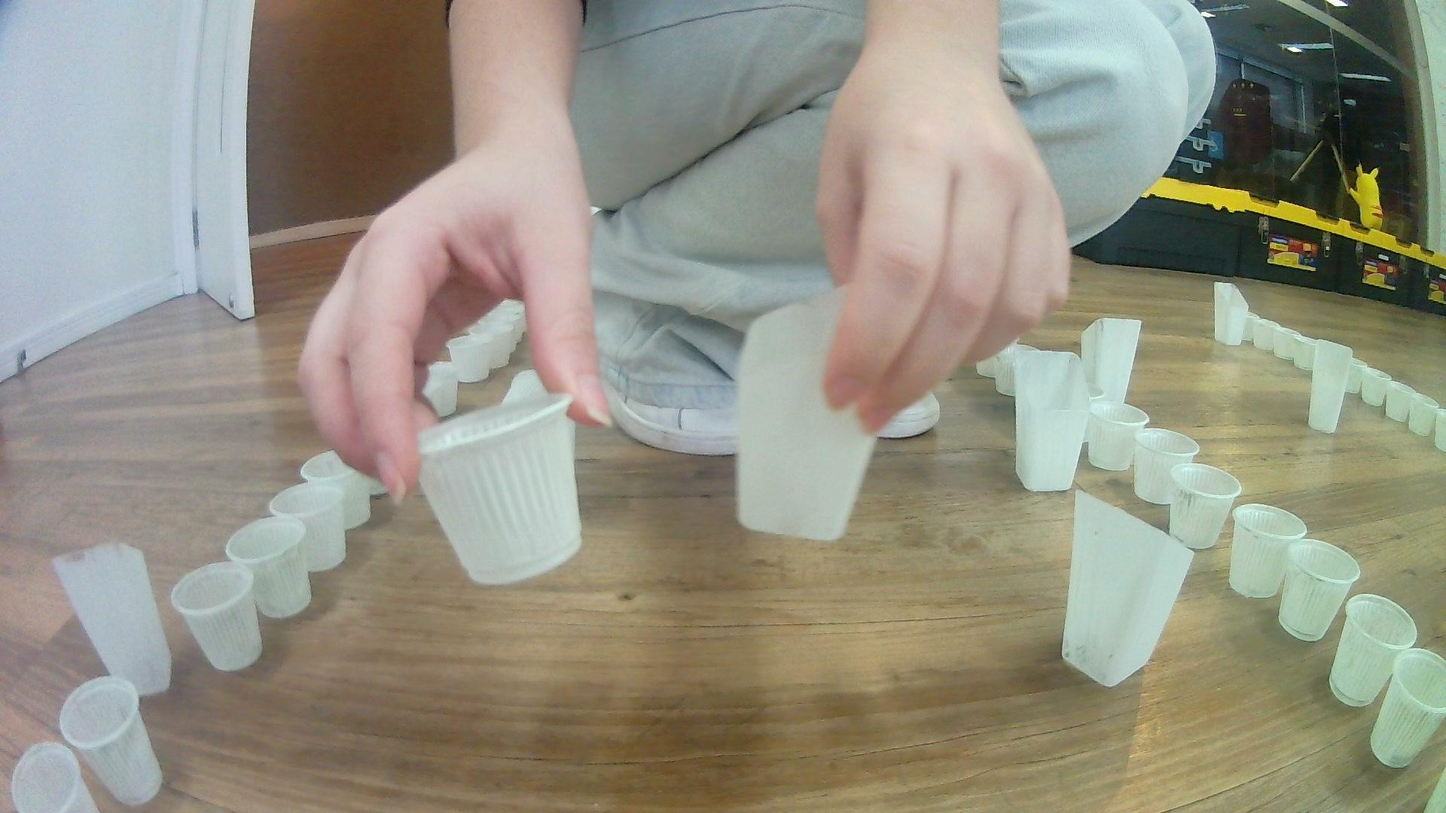erva_daninha: (734, 288, 905, 543), (1058, 488, 1195, 689), (48, 541, 175, 699), (1012, 352, 1088, 493), (1081, 317, 1142, 404), (1308, 339, 1353, 434), (1213, 281, 1249, 346)
planta: (414, 392, 583, 587), (58, 676, 163, 807), (1328, 592, 1418, 708), (170, 562, 264, 672), (1369, 648, 1446, 769), (1276, 537, 1362, 643), (224, 516, 311, 618), (1228, 503, 1307, 599), (268, 483, 346, 573), (1167, 462, 1243, 550), (10, 741, 101, 813), (299, 449, 373, 531), (1132, 428, 1201, 506), (1088, 402, 1152, 472), (994, 346, 1044, 396), (445, 330, 490, 383), (421, 360, 459, 420), (467, 318, 511, 369), (486, 300, 526, 349), (1234, 311, 1275, 347), (975, 342, 1013, 379), (1408, 394, 1438, 437), (1384, 381, 1415, 422), (1068, 376, 1106, 406), (1362, 367, 1391, 406), (1255, 319, 1289, 352), (1274, 327, 1307, 361), (1292, 334, 1320, 370), (1347, 358, 1367, 394), (1435, 407, 1446, 452)
